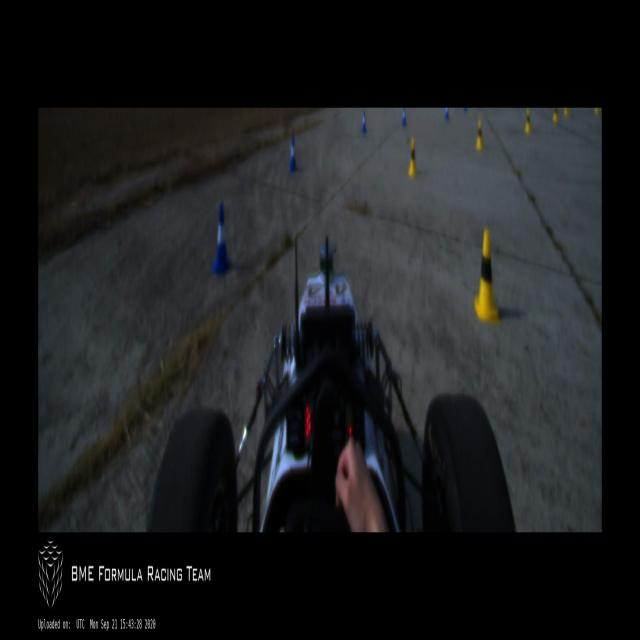blue_cone: (210, 204, 232, 276), (289, 135, 297, 173), (361, 111, 367, 135), (401, 108, 407, 128), (444, 108, 449, 120)
yellow_cone: (474, 231, 501, 326), (409, 139, 418, 179), (476, 120, 484, 151), (525, 108, 531, 135), (552, 108, 558, 124)
